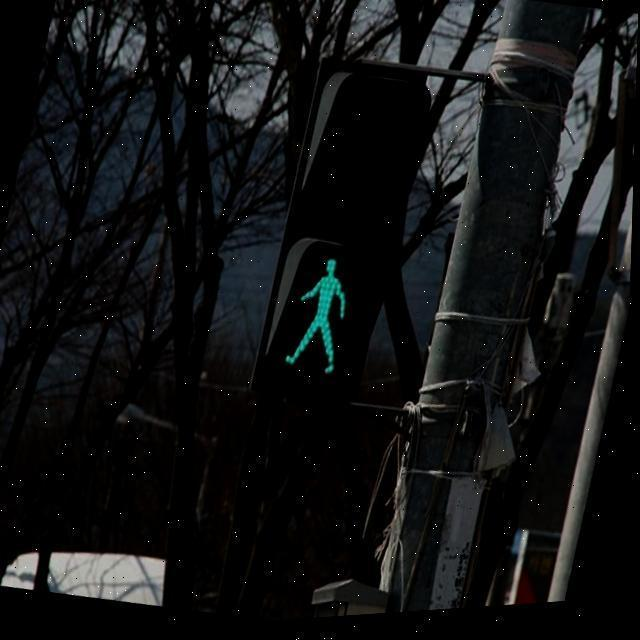greenlight: (255, 63, 439, 400)
